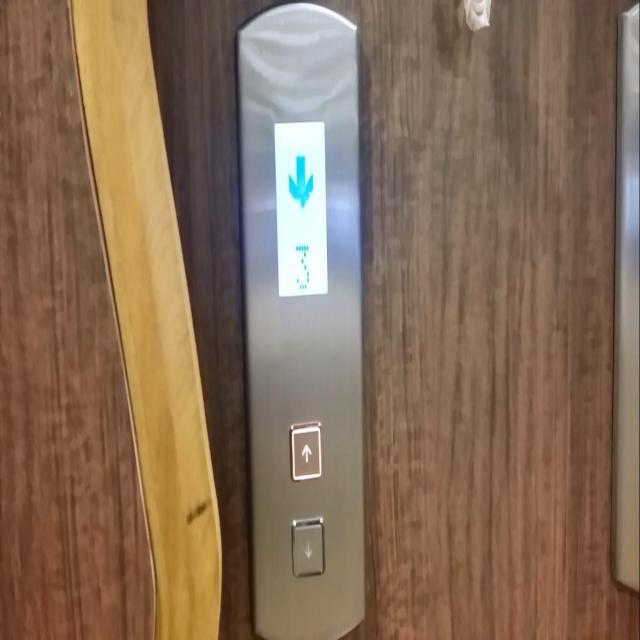down: (290, 514, 325, 578)
led: (273, 121, 328, 298)
up: (289, 420, 322, 481)
